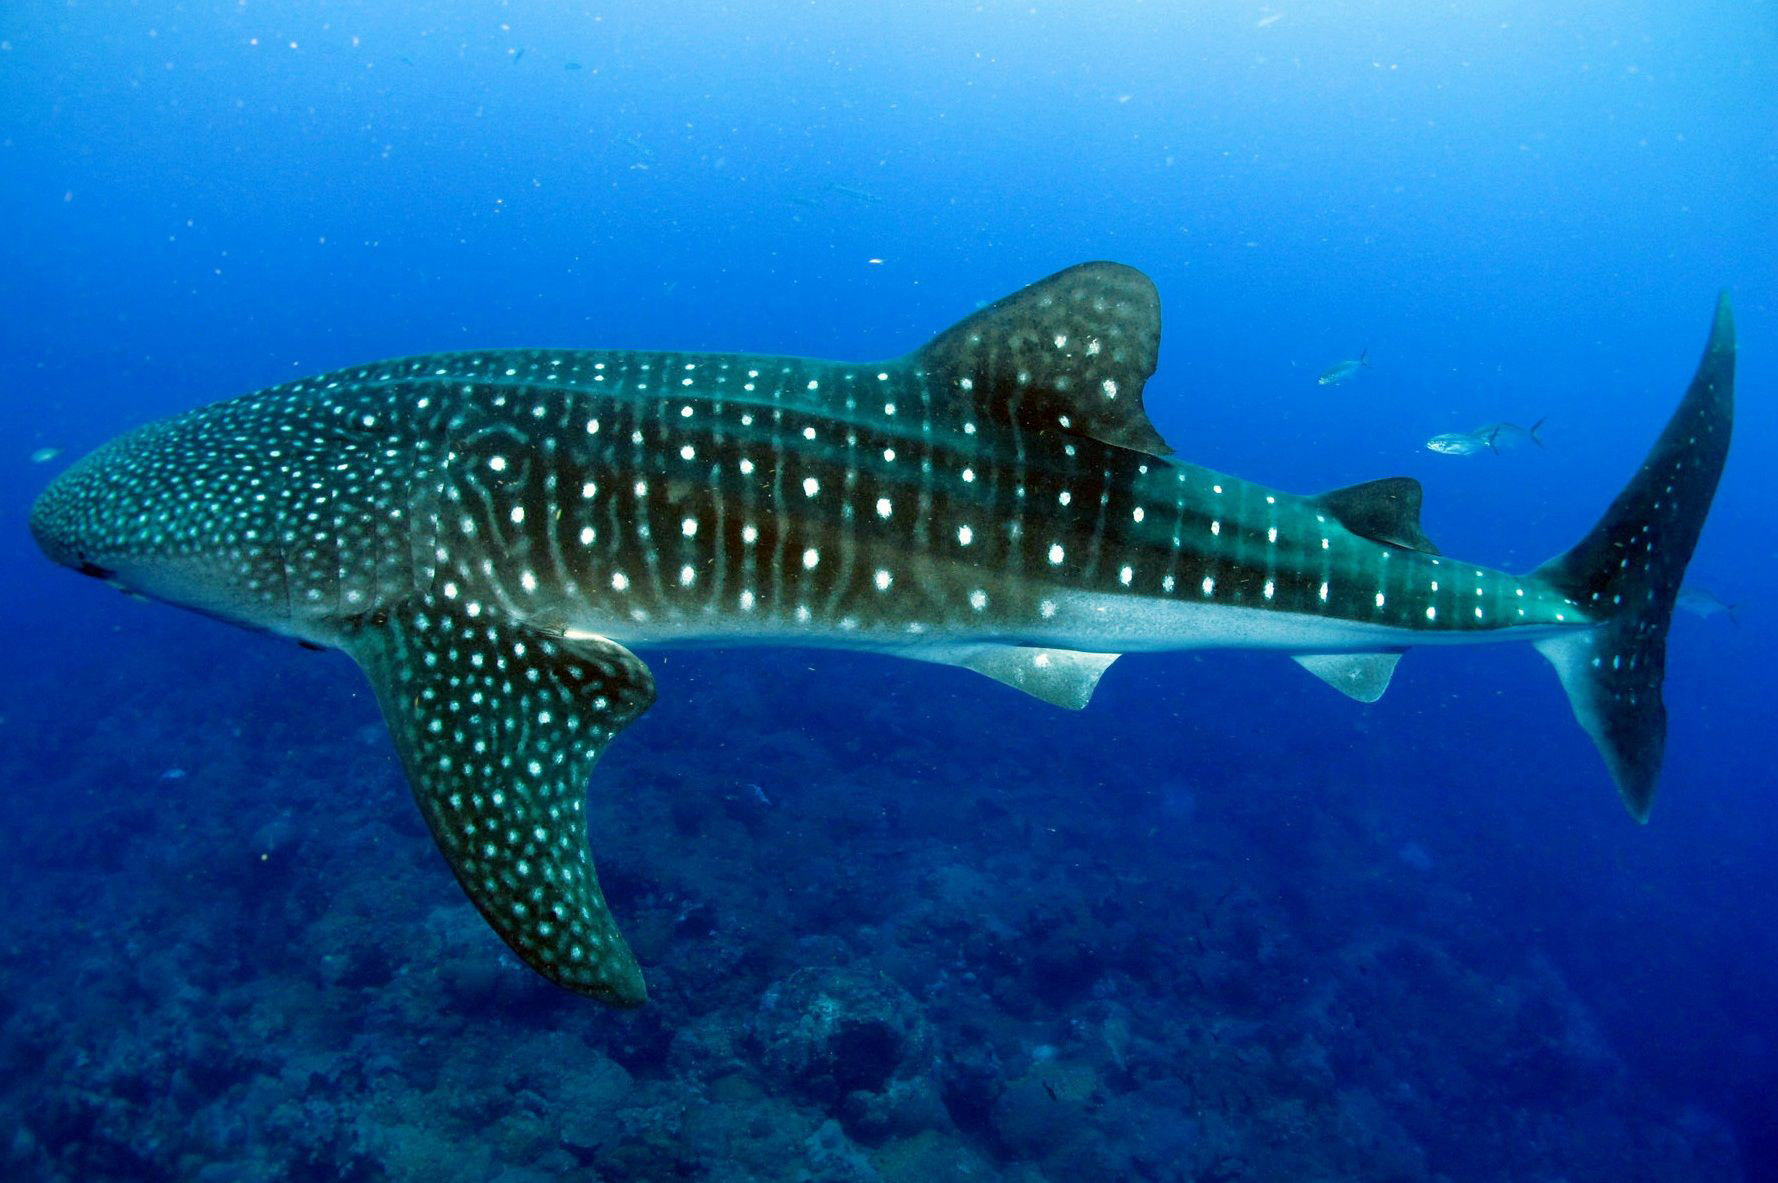Rhincodon_typusw: (1, 246, 1756, 1011)
